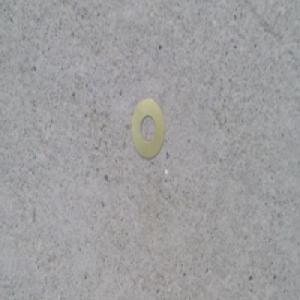Washer: (130, 97, 167, 159)
